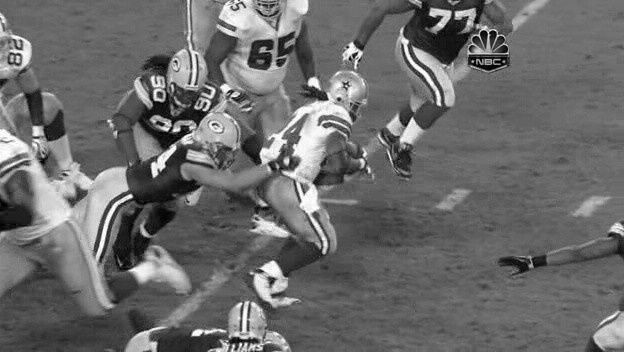person: (329, 72, 365, 118), (328, 72, 364, 118), (330, 72, 366, 118), (329, 71, 365, 117), (329, 73, 365, 119)
target_negative: (33, 140, 431, 291), (271, 73, 384, 210), (221, 34, 287, 207), (570, 80, 618, 247), (403, 56, 494, 79), (203, 238, 234, 288)
